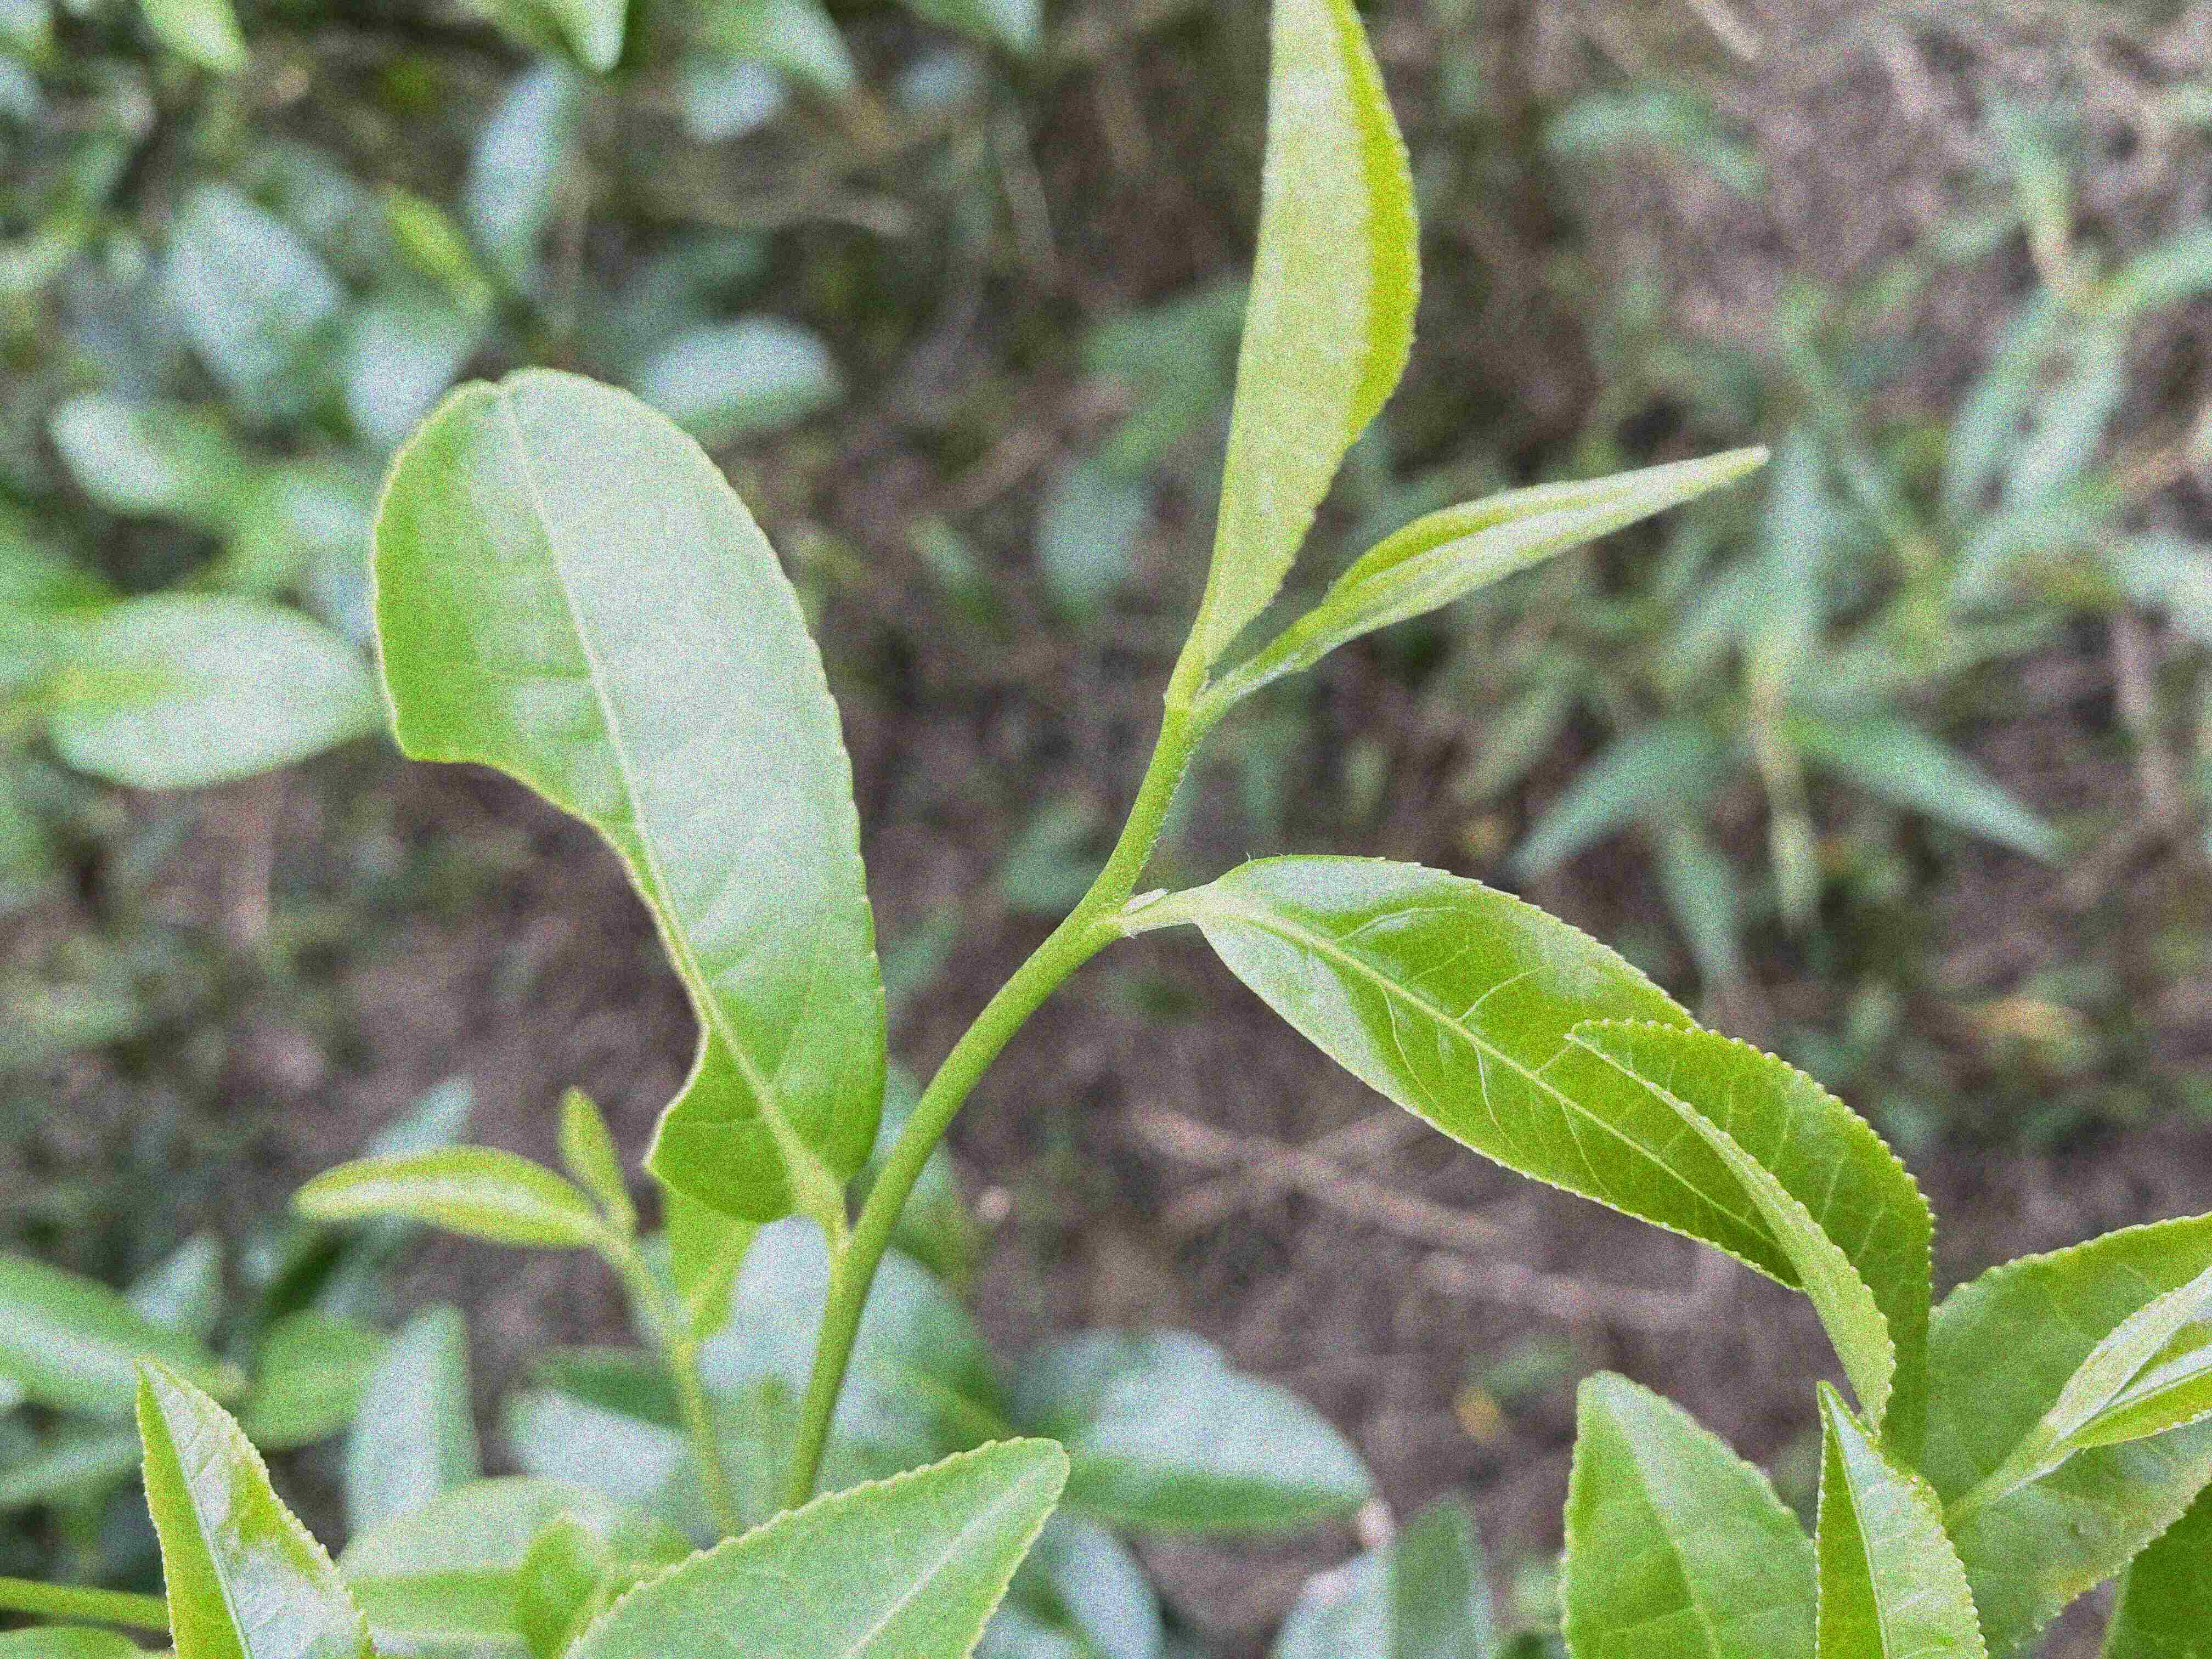chihuo_low: (368, 361, 894, 1225)
healthy: (1195, 852, 1806, 1291), (1566, 1018, 1935, 1434), (557, 1438, 1069, 1657), (125, 1351, 380, 1657), (1554, 1370, 1815, 1657), (1808, 1378, 1991, 1657)
